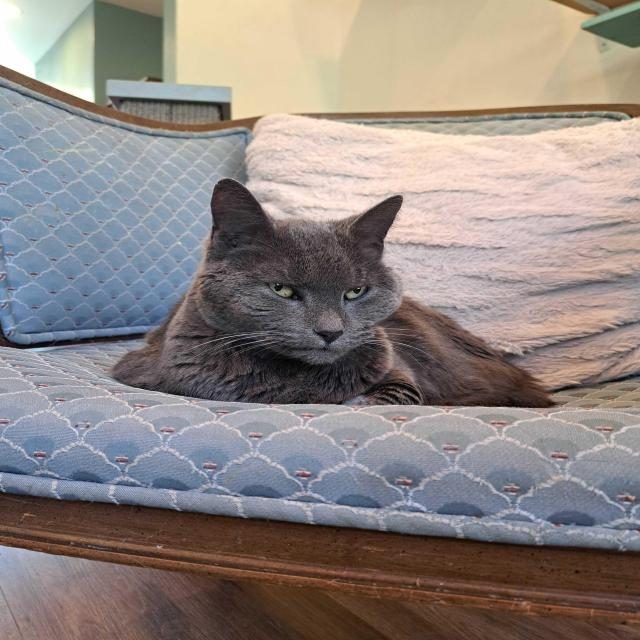russian_blue_cat: (185, 171, 422, 381)
